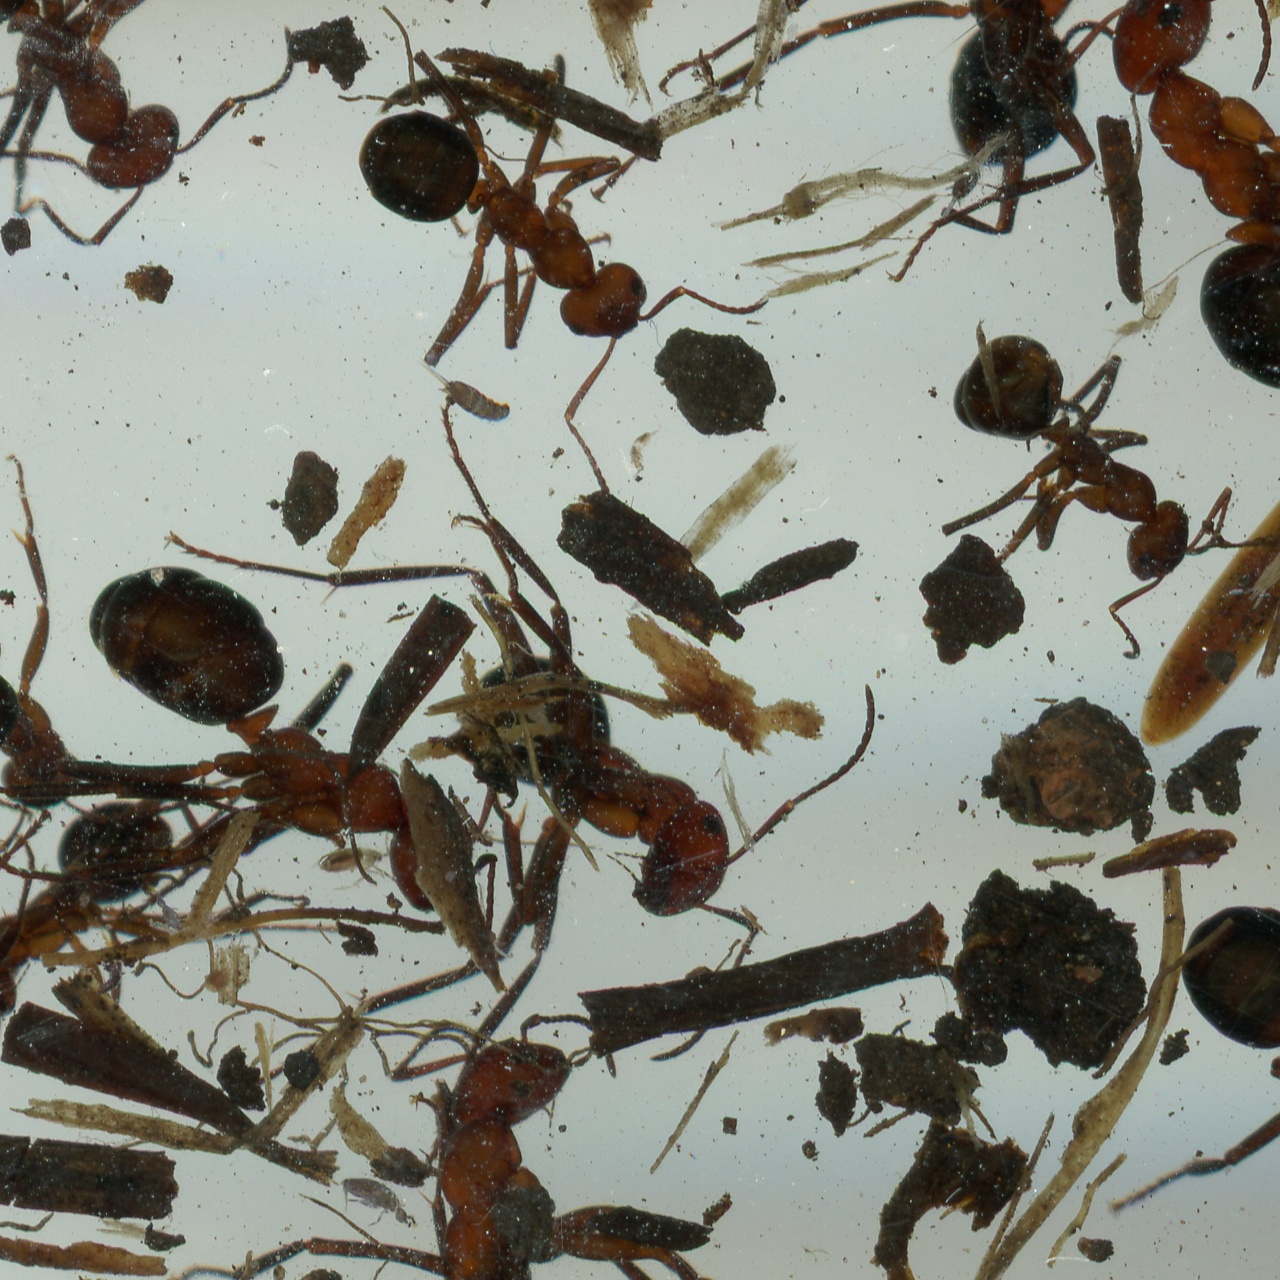arthropod: (157, 371, 883, 1071), (254, 0, 814, 520), (863, 278, 1280, 700), (64, 559, 495, 943), (998, 792, 1280, 1280), (356, 1000, 790, 1280), (0, 0, 334, 303), (0, 0, 164, 610), (768, 0, 1149, 251), (1068, 0, 1280, 395), (0, 796, 186, 1072), (0, 446, 91, 874), (0, 704, 55, 1113), (412, 357, 518, 432), (309, 829, 398, 893), (336, 1170, 423, 1233), (624, 408, 666, 477), (147, 884, 191, 934), (94, 949, 127, 998)
